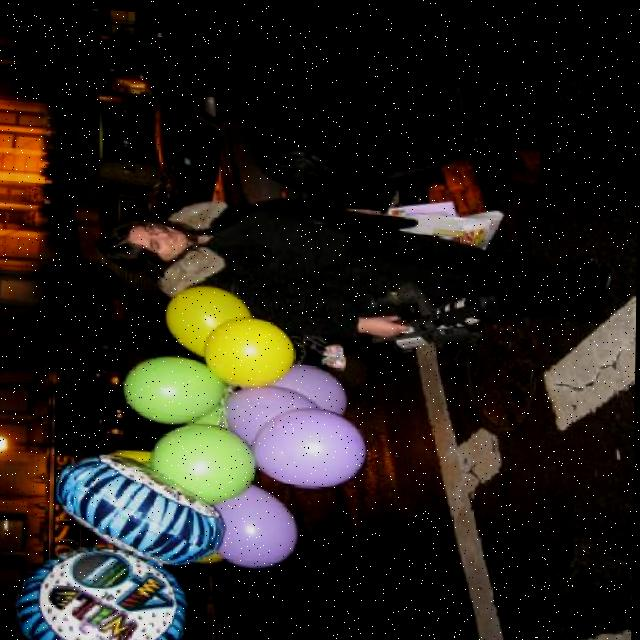balloon: (46, 443, 227, 569), (15, 535, 196, 640), (240, 395, 369, 492), (142, 413, 265, 512), (114, 335, 233, 431), (207, 470, 300, 572), (160, 274, 257, 362), (222, 374, 331, 448), (204, 305, 301, 385), (271, 352, 353, 409)
